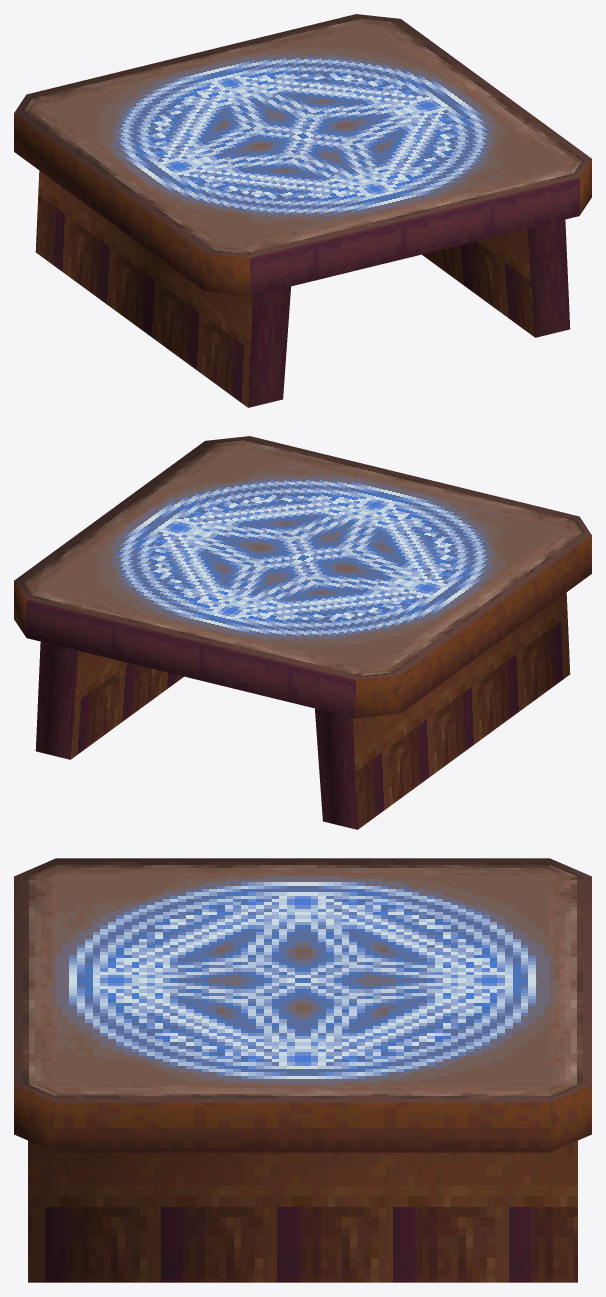
3 renders of one model, top to bottom at view 1: azimuth 30°, elevation 25°; view 2: azimuth 150°, elevation 25°; view 3: azimuth 270°, elevation 25°, orthographic. The views are drawn at different scales.
Parts seen in each view (by area): view 1: 3133IMFY01_02; view 2: 3133IMFY01_02; view 3: 3133IMFY01_02.
Part boxes in pixels (x1,y1,x2,y2): 3133IMFY01_02: (14,14,591,407); 3133IMFY01_02: (14,436,591,829); 3133IMFY01_02: (14,858,591,1282).
Bounding box in the file's own units: 1.96 × 0.75 × 1.96.
4 materials, 4 textured.
